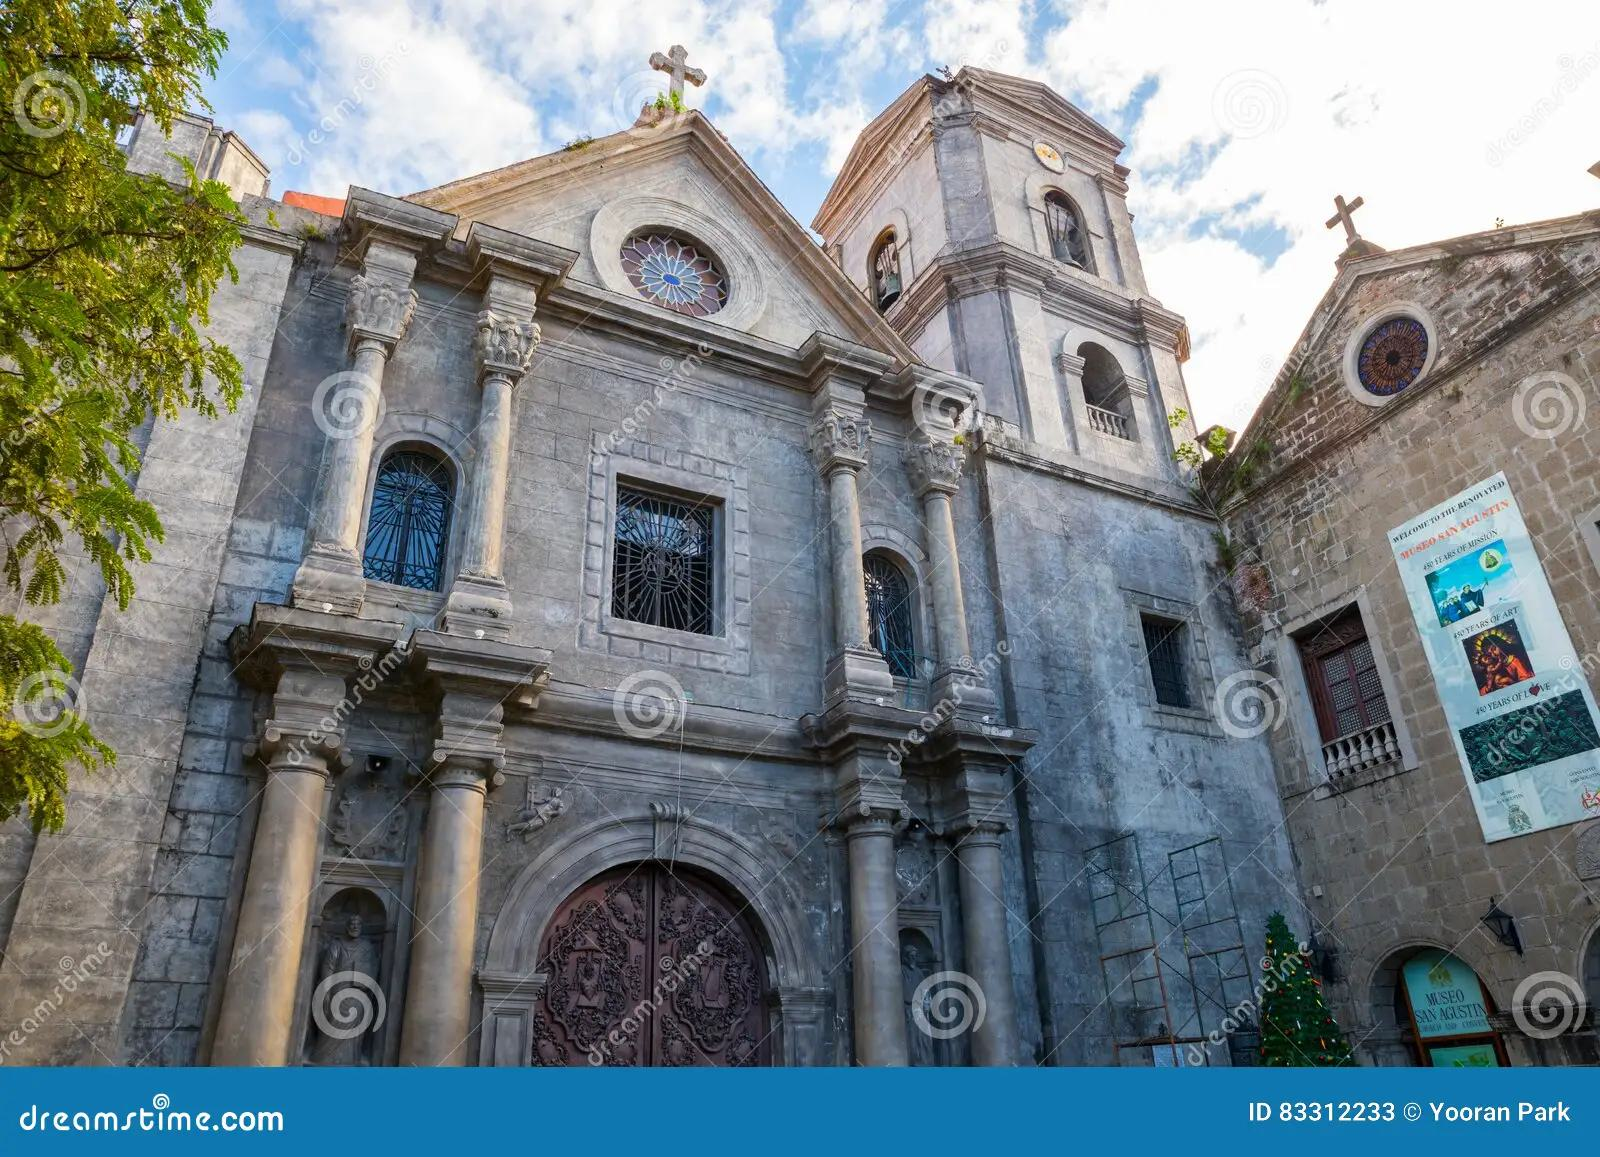Environmental Damage: (1157, 404, 1250, 519), (643, 91, 694, 135)
San Agustin Church: (272, 15, 1333, 1068)
